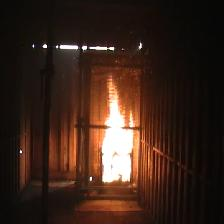fire: (101, 76, 134, 183)
